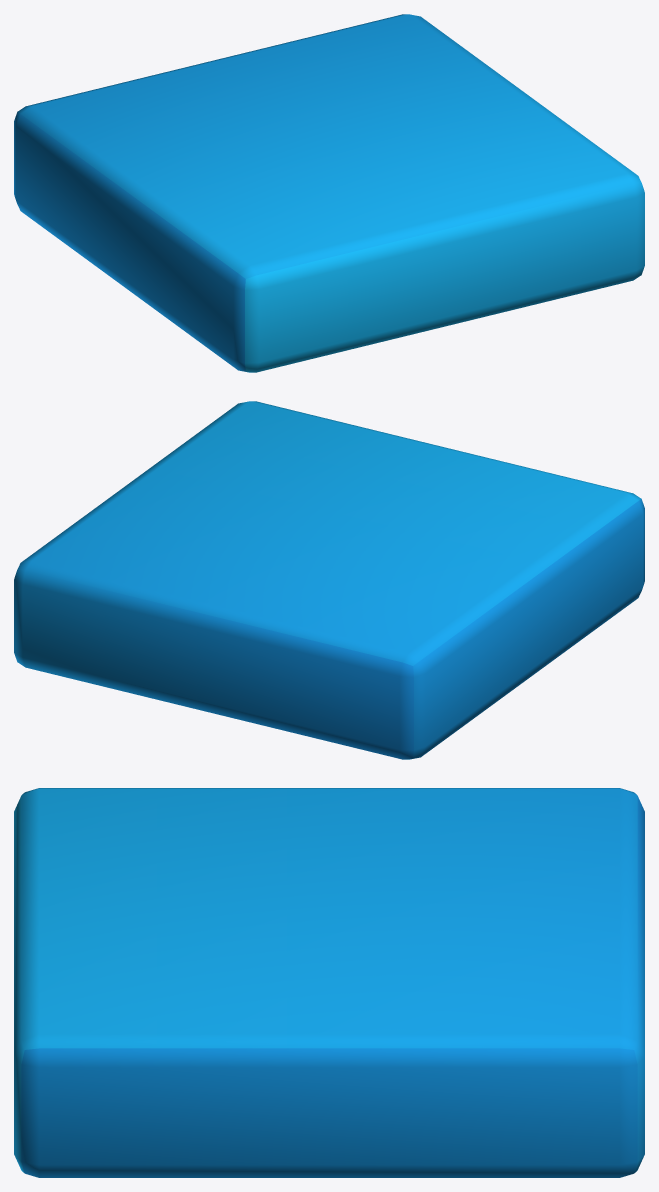
Rendered from TileBlue.fbx.
3 renders of one model, top to bottom at view 1: azimuth 30°, elevation 25°; view 2: azimuth 150°, elevation 25°; view 3: azimuth 270°, elevation 25°, orthographic. The views are drawn at different scales.
Parts seen in each view (by area): view 1: Cube.001; view 2: Cube.001; view 3: Cube.001.
Part boxes in pixels (<box>): Cube.001: <box>14,14,644,372</box>; Cube.001: <box>14,401,644,759</box>; Cube.001: <box>14,788,644,1177</box>.
Size of the model in its own units: 150 by 37.5 by 150.
